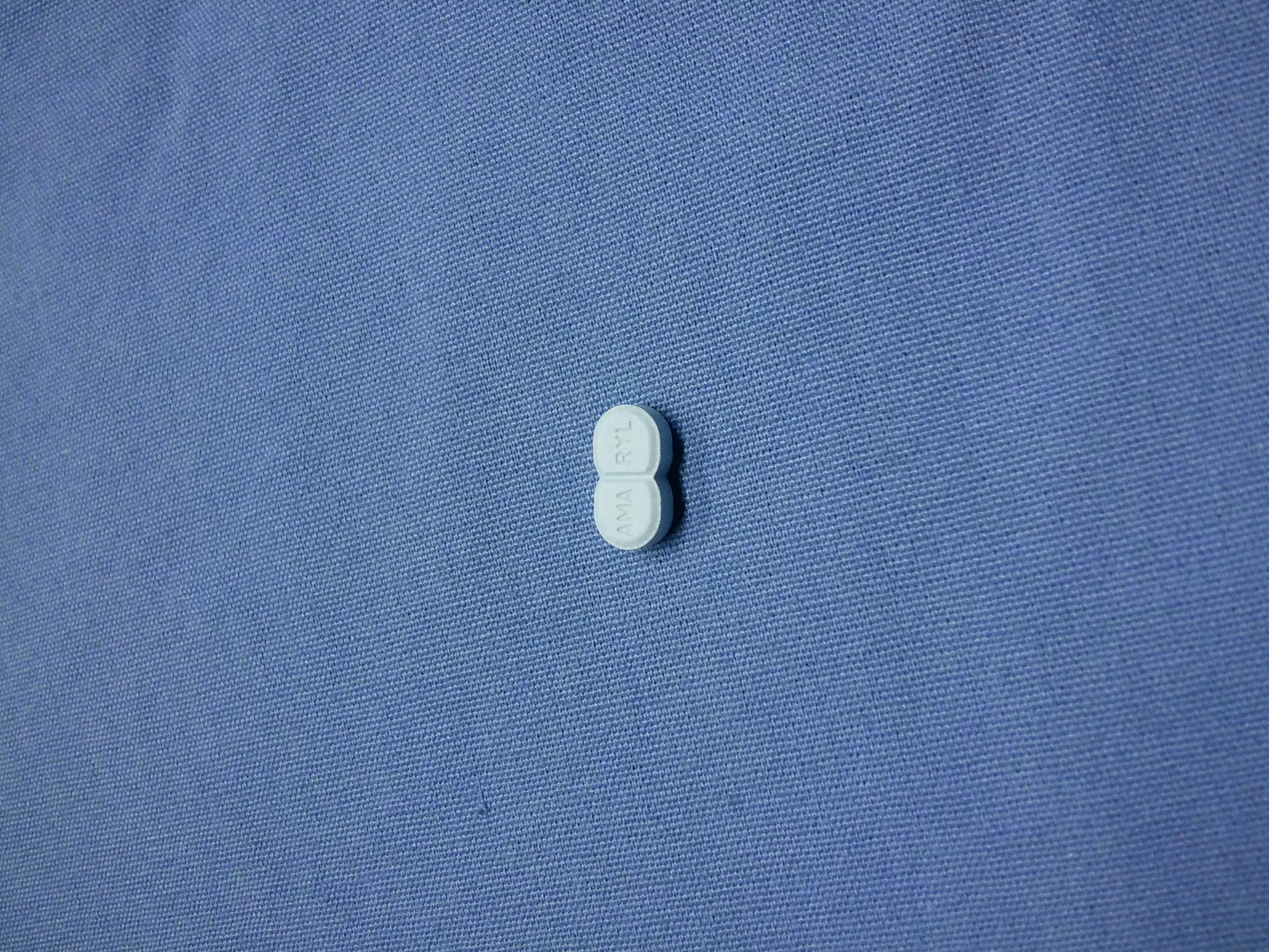Pill: (565, 377, 693, 584)
